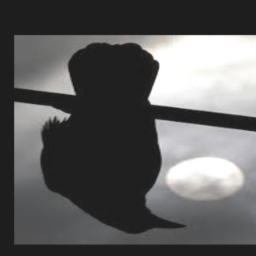Crow: (39, 42, 189, 235)
